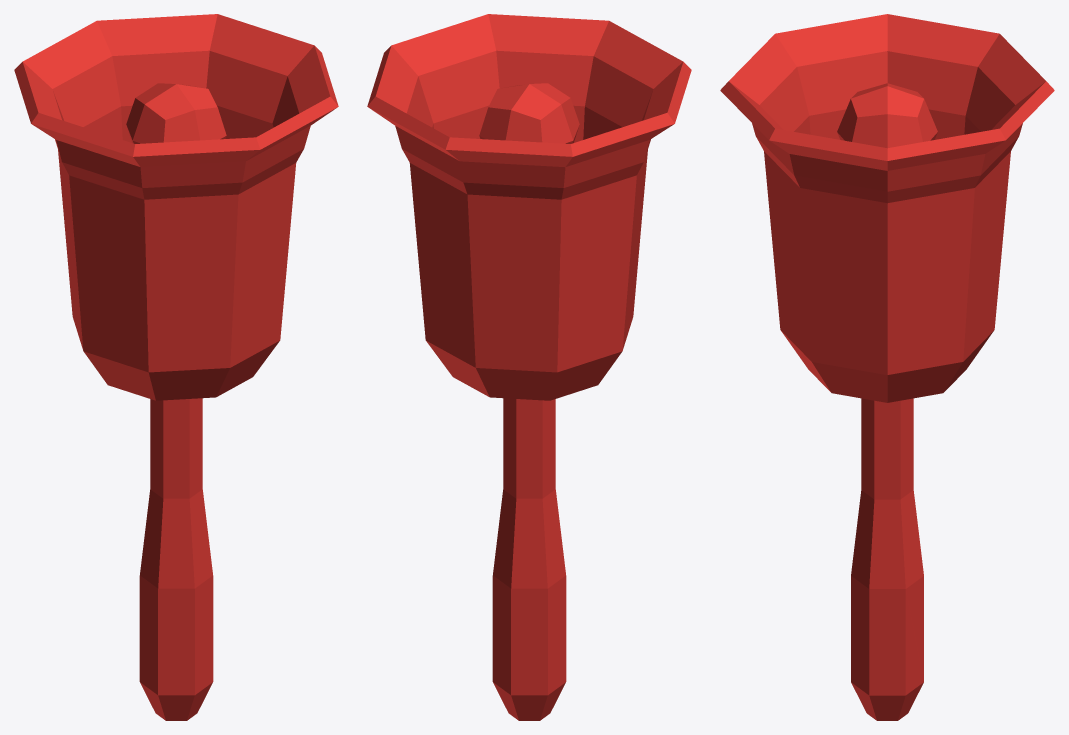
The model's file is SM_Bell_D_Christmas.fbx.
3 renders of one model, left to right at view 1: azimuth 30°, elevation 25°; view 2: azimuth 150°, elevation 25°; view 3: azimuth 270°, elevation 25°, orthographic.
Visible parts, largest first — view 1: bell-d-christmas; view 2: bell-d-christmas; view 3: bell-d-christmas.
Boxes of the visible parts, x1,y1,x2,y2 form: bell-d-christmas: [14, 14, 338, 720]; bell-d-christmas: [367, 14, 691, 720]; bell-d-christmas: [720, 14, 1054, 720].
Size of the model in its own units: 0.1378 by 0.287 by 0.1378.
